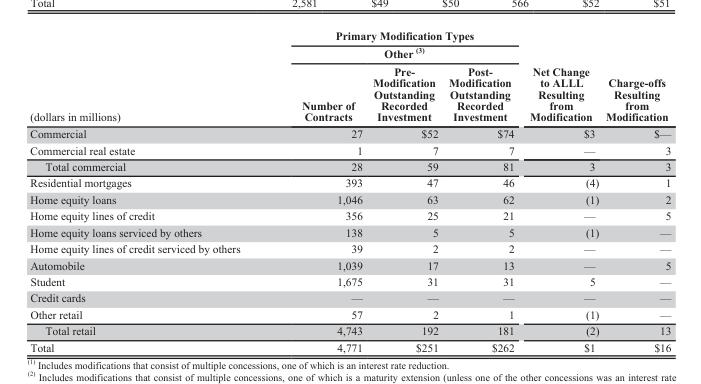table: (29, 29, 670, 353)
table column: (29, 29, 270, 353), (270, 29, 367, 353), (521, 29, 601, 353), (442, 29, 521, 353), (367, 29, 442, 353), (601, 29, 670, 353)
table column header: (29, 29, 670, 124)
table row: (29, 62, 670, 124), (29, 29, 670, 62), (29, 124, 670, 141), (29, 157, 670, 174), (29, 190, 670, 207), (29, 223, 670, 240), (29, 272, 670, 289), (29, 305, 670, 322), (29, 141, 670, 157), (29, 174, 670, 190), (29, 207, 670, 223), (29, 240, 670, 256), (29, 256, 670, 272), (29, 289, 670, 305), (29, 322, 670, 338), (29, 338, 670, 353)
table spanning cell: (29, 29, 270, 124), (270, 29, 521, 62), (521, 29, 601, 124), (601, 29, 670, 124)
